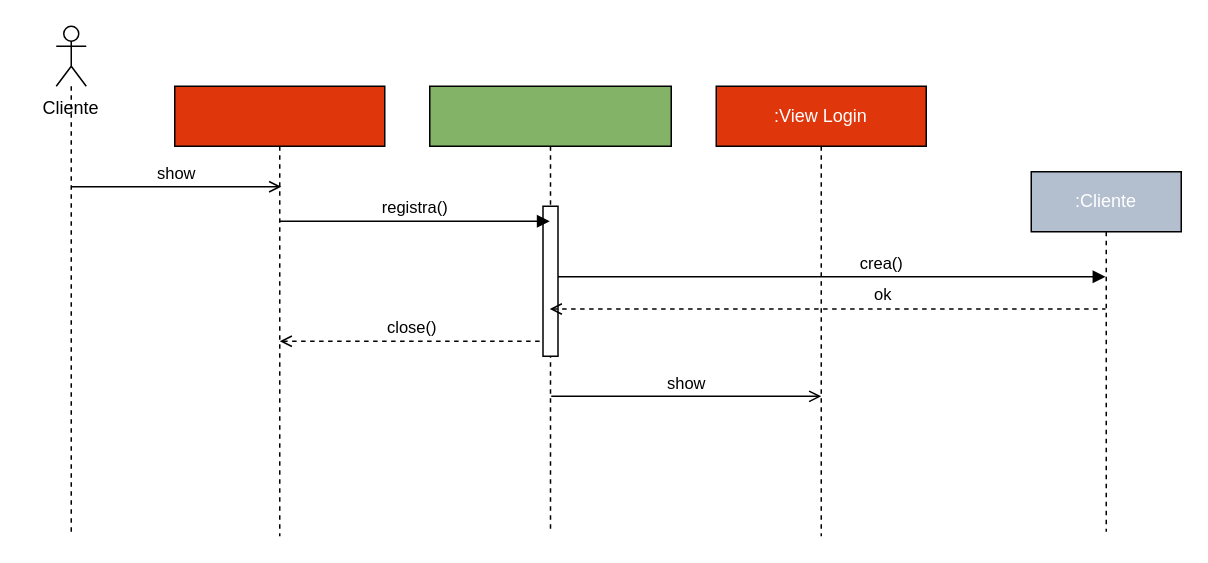
The diagram is 1208 pixels wide and 563 high, and some of its shapes have lost their labels. The shapes that lost their labels are listed below. From the top down, each one's box as (x1, y1, x2, y2) in pixels, then its label:
(173, 85, 385, 536): :View Registrazione
(428, 85, 671, 532): :RegistrazioneController
